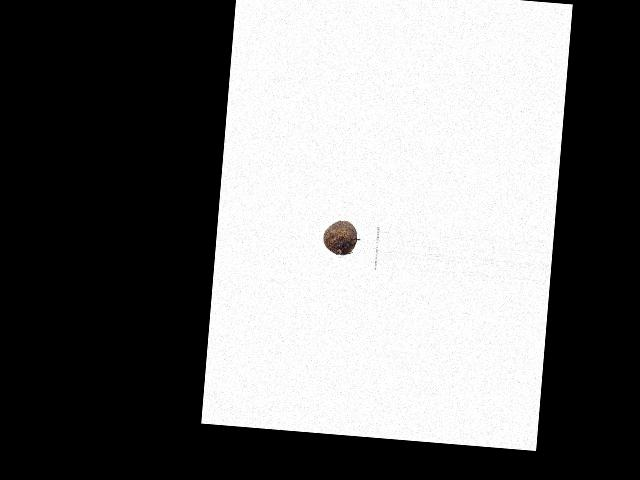beet: (322, 218, 358, 255)
